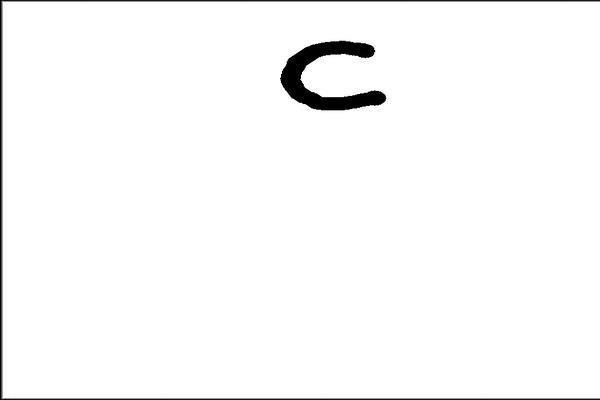C: (276, 32, 390, 117)
